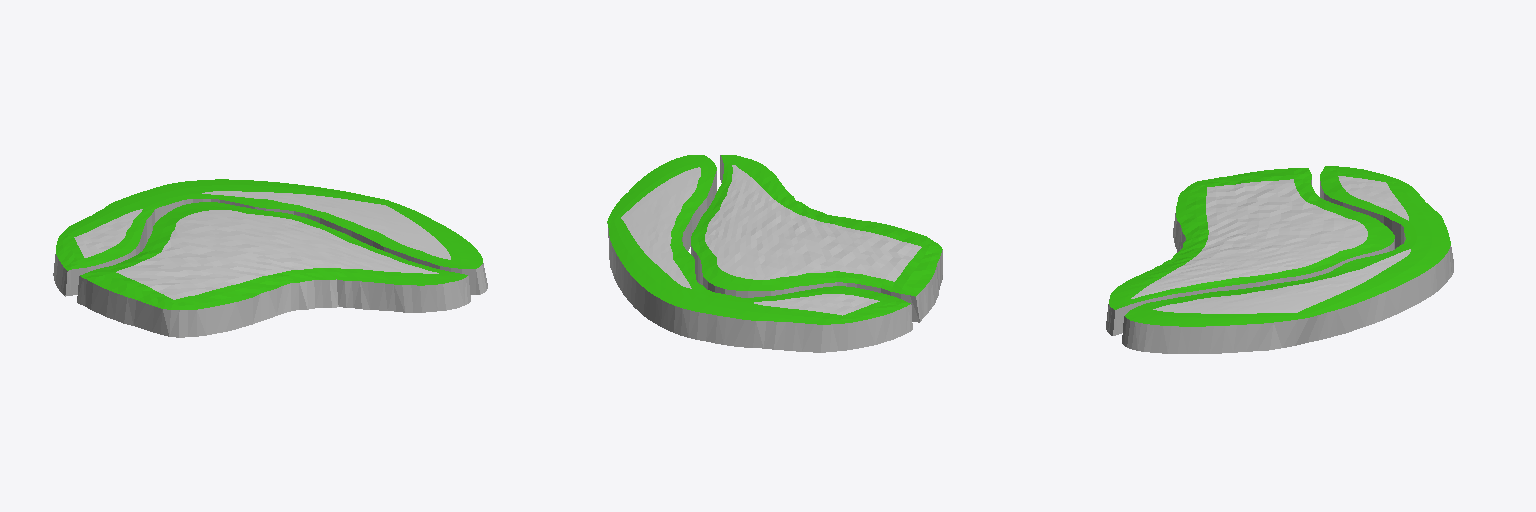
The model's file is IslandBase.obj.
3 views of the same model, side by side, from view 1: azimuth 30°, elevation 25°; view 2: azimuth 150°, elevation 25°; view 3: azimuth 270°, elevation 25° (orthographic).
Parts seen in each view (by area): view 1: Circle; view 2: Circle; view 3: Circle.
Boxes of the visible parts, x1,y1,x2,y2 form: Circle: [53, 179, 487, 337]; Circle: [607, 155, 942, 352]; Circle: [1106, 166, 1453, 353].
Size of the model in its own units: 607 by 56.69 by 547.